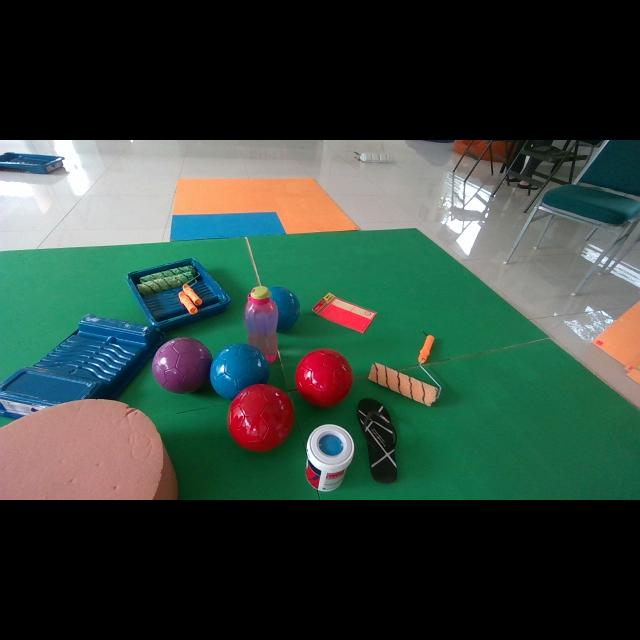B: (210, 344, 269, 399), (269, 286, 300, 332)
P: (152, 338, 212, 394)
R: (228, 384, 294, 452), (295, 349, 354, 408)
